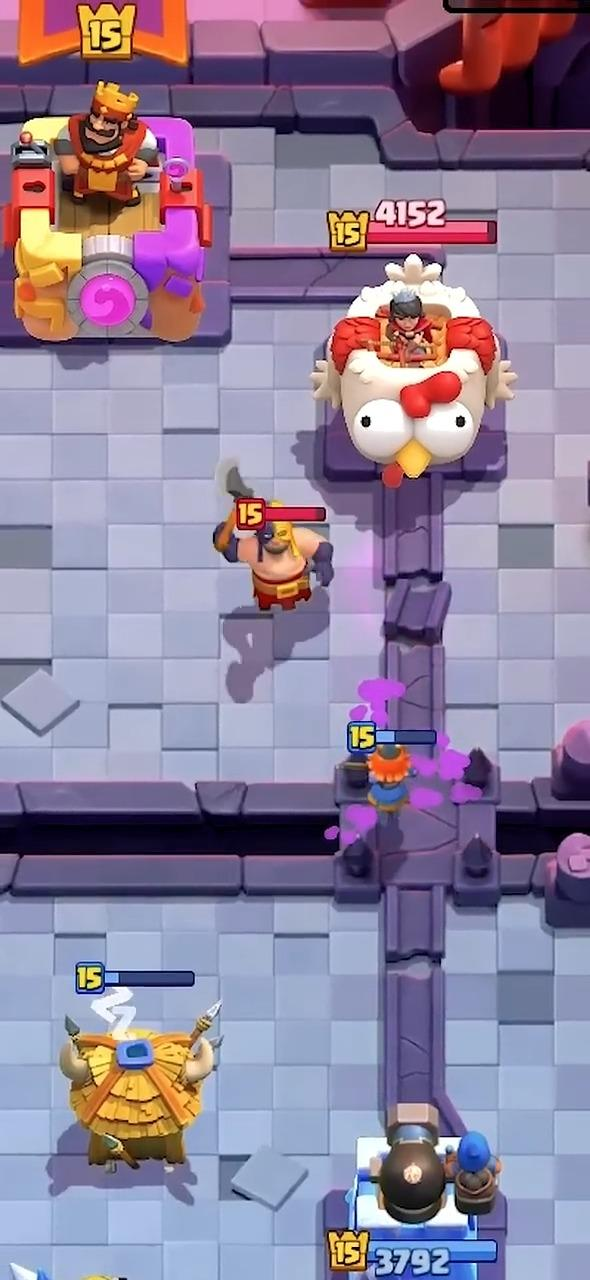executioner: (214, 504, 333, 611)
goblin hut: (59, 1002, 220, 1171)
valkyrie: (367, 744, 416, 822)
